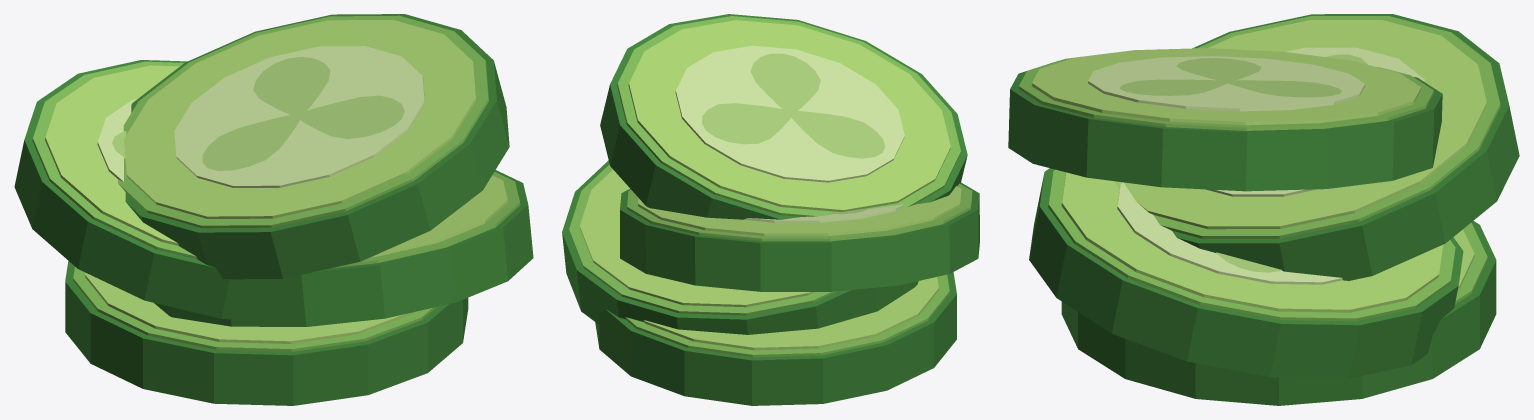
File: cucumber_slice_stack.fbx
3 renders of one model, left to right at view 1: azimuth 30°, elevation 25°; view 2: azimuth 150°, elevation 25°; view 3: azimuth 270°, elevation 25°, orthographic. The views are drawn at different scales.
Visible parts, largest first — view 1: Slice_3_Flesh, Slice_Skin, Slice_3_Skin, Slice_3_Center, Slice_1_Skin, Slice_2_Skin, Slice_2_Flesh, Slice_3_Ring, Slice_Flesh, Slice_Ring, Slice_2_Ring, Slice_3_Seed0 (+5 smaller); view 2: Slice_3_Flesh, Slice_2_Skin, Slice_Skin, Slice_3_Center, Slice_1_Skin, Slice_3_Skin, Slice_1_Flesh, Slice_3_Ring, Slice_Flesh, Slice_2_Flesh, Slice_1_Ring, Slice_Ring (+5 smaller); view 3: Slice_3_Skin, Slice_1_Skin, Slice_2_Flesh, Slice_2_Skin, Slice_Skin, Slice_1_Flesh, Slice_3_Flesh, Slice_3_Center, Slice_2_Ring, Slice_1_Ring, Slice_1_Center, Slice_3_Ring (+7 smaller).
Boxes of the visible parts, x1=… form: Slice_3_Flesh: x1=124, y1=19, x2=476, y2=218; Slice_Skin: x1=65, y1=261, x2=468, y2=405; Slice_3_Skin: x1=125, y1=14, x2=509, y2=279; Slice_3_Center: x1=174, y1=46, x2=424, y2=187; Slice_1_Skin: x1=154, y1=170, x2=533, y2=326; Slice_2_Skin: x1=14, y1=60, x2=293, y2=320; Slice_2_Flesh: x1=45, y1=65, x2=179, y2=245; Slice_3_Ring: x1=118, y1=15, x2=488, y2=228; Slice_Flesh: x1=85, y1=273, x2=414, y2=343; Slice_Ring: x1=73, y1=267, x2=436, y2=351; Slice_2_Ring: x1=32, y1=61, x2=197, y2=259; Slice_3_Seed0: x1=202, y1=114, x2=301, y2=170; Slice_3_Flesh: x1=628, y1=20, x2=950, y2=211; Slice_2_Skin: x1=620, y1=182, x2=979, y2=291; Slice_Skin: x1=595, y1=272, x2=956, y2=405; Slice_3_Center: x1=675, y1=45, x2=904, y2=182; Slice_1_Skin: x1=562, y1=160, x2=918, y2=334; Slice_3_Skin: x1=600, y1=14, x2=967, y2=219; Slice_1_Flesh: x1=579, y1=169, x2=814, y2=307; Slice_3_Ring: x1=617, y1=16, x2=960, y2=216; Slice_Flesh: x1=643, y1=277, x2=938, y2=350; Slice_2_Flesh: x1=638, y1=186, x2=961, y2=236; Slice_1_Ring: x1=569, y1=164, x2=837, y2=315; Slice_Ring: x1=625, y1=274, x2=949, y2=357; Slice_3_Skin: x1=1008, y1=60, x2=1442, y2=191; Slice_1_Skin: x1=1029, y1=168, x2=1463, y2=378; Slice_2_Flesh: x1=1114, y1=20, x2=1487, y2=229; Slice_2_Skin: x1=1172, y1=14, x2=1519, y2=280; Slice_Skin: x1=1061, y1=221, x2=1496, y2=405; Slice_1_Flesh: x1=1061, y1=172, x2=1442, y2=312; Slice_3_Flesh: x1=1031, y1=48, x2=1421, y2=125; Slice_3_Center: x1=1088, y1=56, x2=1364, y2=111; Slice_2_Ring: x1=1153, y1=16, x2=1500, y2=238; Slice_1_Ring: x1=1048, y1=169, x2=1455, y2=321; Slice_1_Center: x1=1117, y1=182, x2=1342, y2=284; Slice_3_Ring: x1=1018, y1=57, x2=1433, y2=130.
Size of the model in its own units: 496 by 281 by 470.
